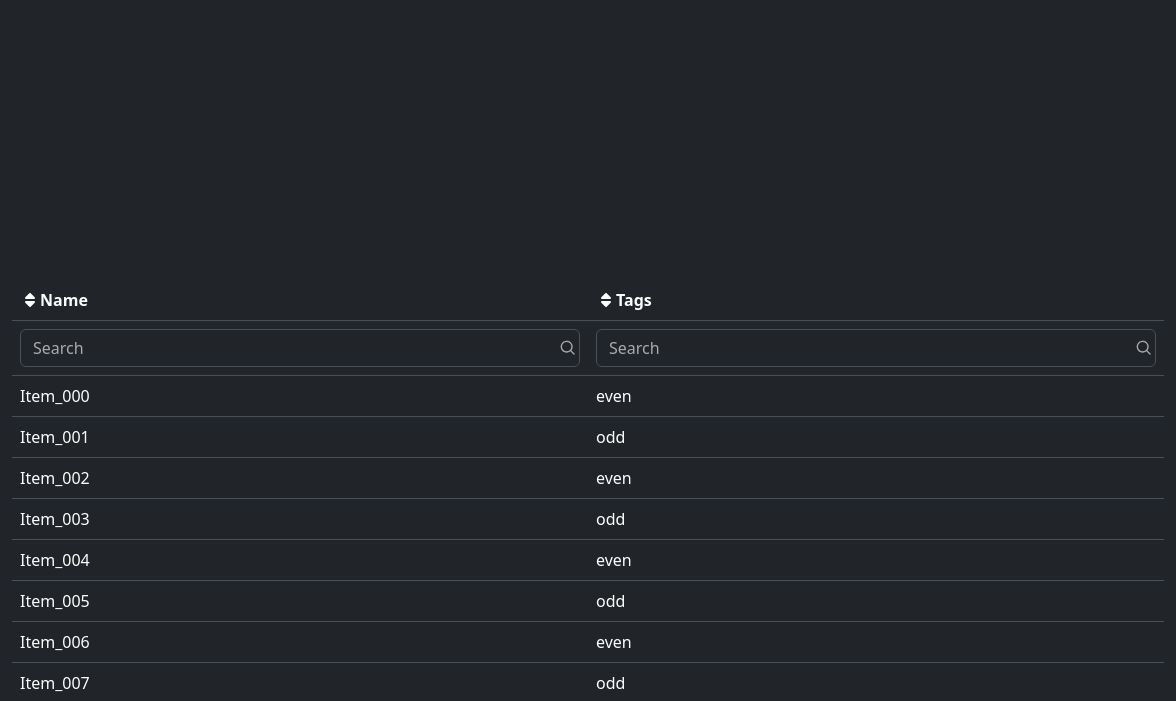
text filters › clears the picked option
(page scrolled)
Click the 1st field with placeholder "Search" at [300, 348], box [20, 329, 580, 367]
(page scrolled)
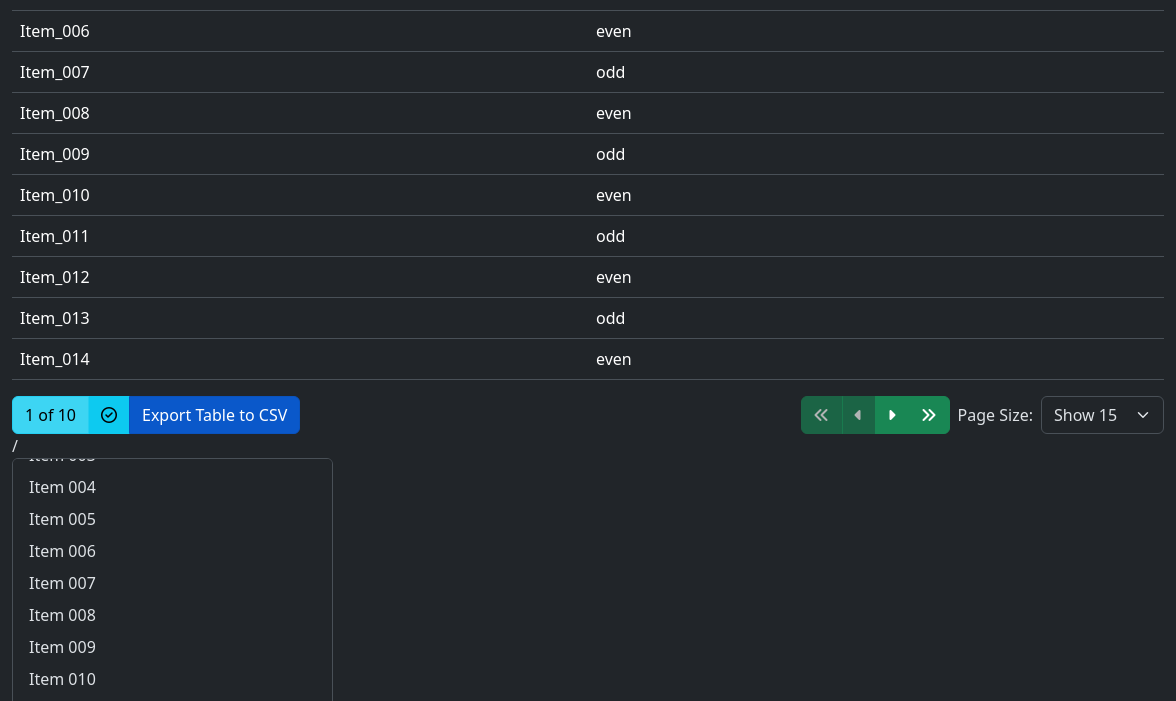
Click the button "Item 007" at [62, 583], box [29, 572, 96, 594]
(page scrolled)
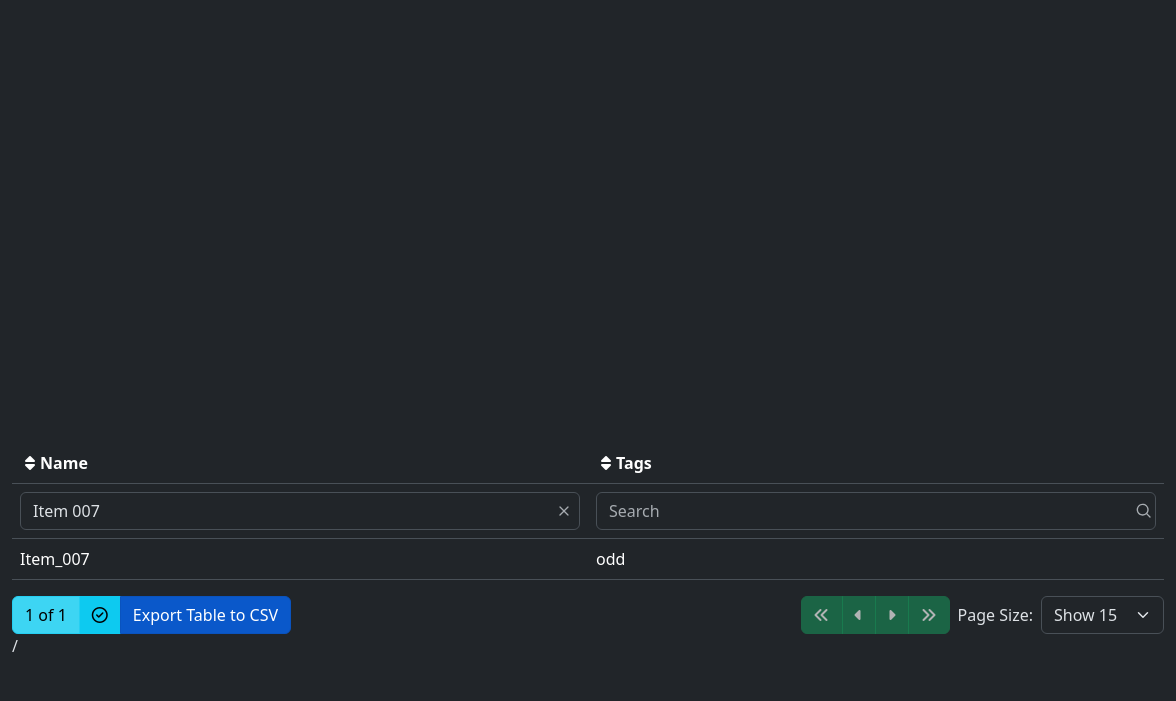
Click the 1st button titled "Clear" at [568, 511], box [560, 503, 576, 519]
(page scrolled)
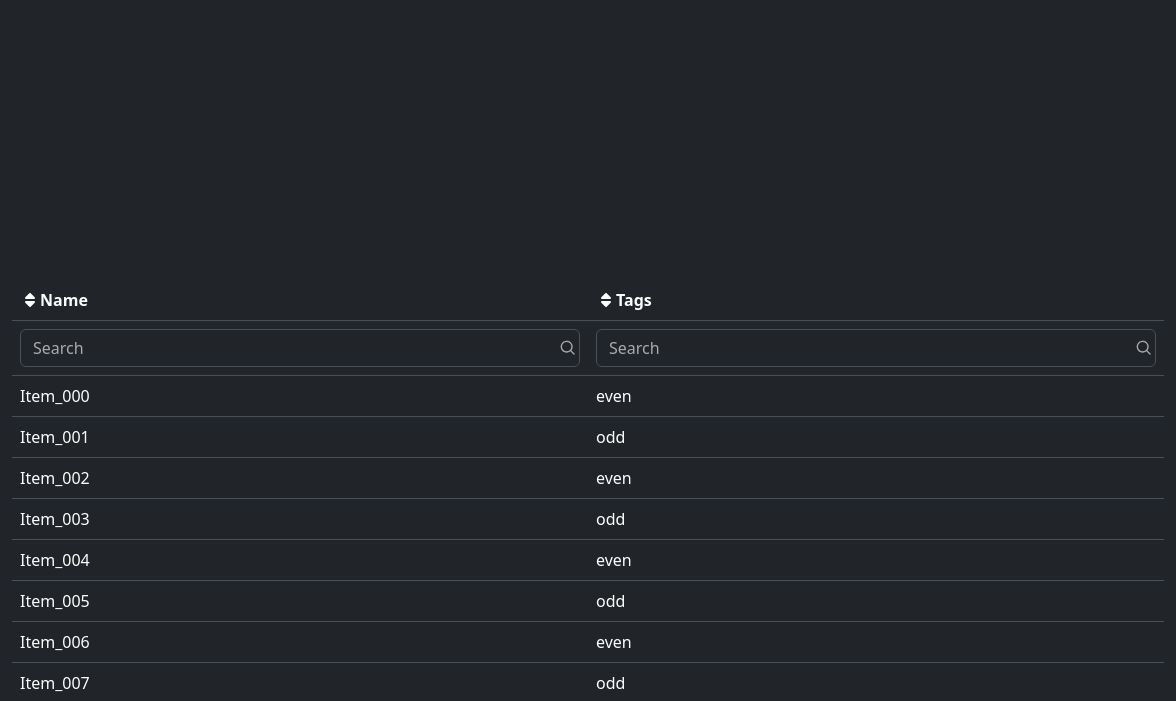
Expected: the 1st field with placeholder "Search" is empty, [20, 329, 580, 367]
